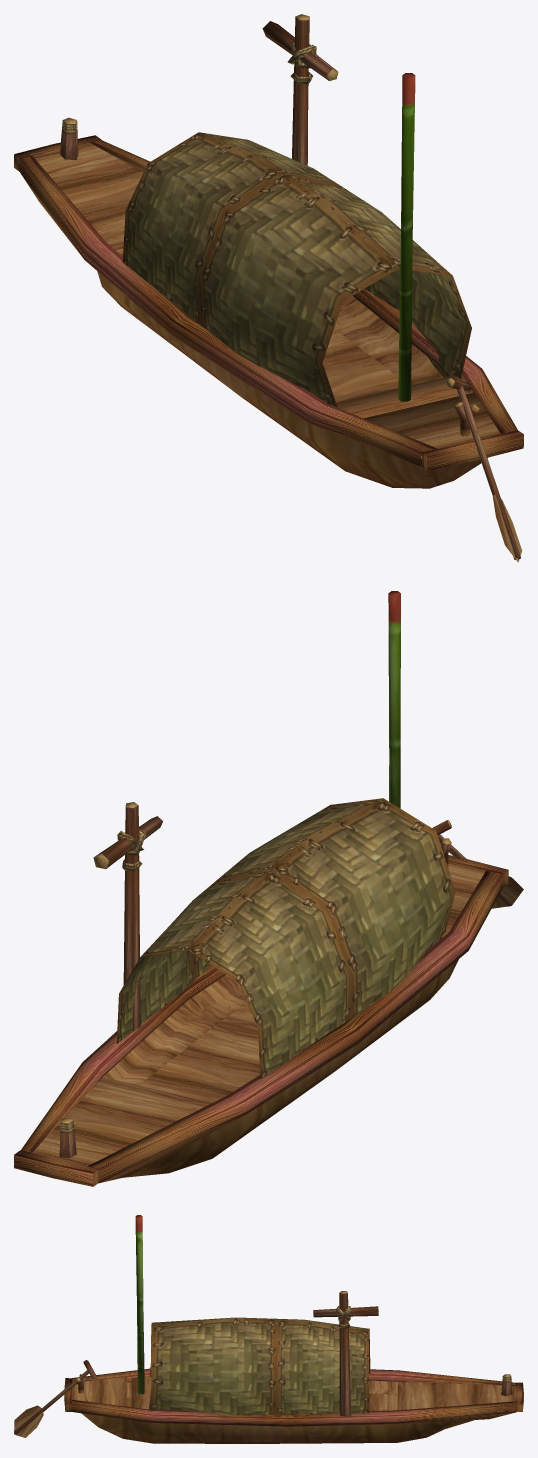
The model's file is environment_common_yuchuan_001_b.FBX.
The picture shows the model from 3 angles, top to bottom: view 1: azimuth 30°, elevation 25°; view 2: azimuth 150°, elevation 25°; view 3: azimuth 270°, elevation 25°; orthographic projection. The views are drawn at different scales.
Visible parts, largest first — view 1: environment_common_yuchuan_001_b03, environment_common_yuchuan_001_b05, environment_common_yuchuan_001_b01, environment_common_yuchuan_001_b04, environment_common_yuchuan_001_b02; view 2: environment_common_yuchuan_001_b03, environment_common_yuchuan_001_b01, environment_common_yuchuan_001_b05, environment_common_yuchuan_001_b04, environment_common_yuchuan_001_b02; view 3: environment_common_yuchuan_001_b03, environment_common_yuchuan_001_b04, environment_common_yuchuan_001_b05, environment_common_yuchuan_001_b01, environment_common_yuchuan_001_b02.
Part boxes in pixels (left/top/right/bottom): environment_common_yuchuan_001_b03: left=122, top=132, right=471, bottom=407; environment_common_yuchuan_001_b05: left=14, top=135, right=523, bottom=470; environment_common_yuchuan_001_b01: left=30, top=141, right=505, bottom=448; environment_common_yuchuan_001_b04: left=60, top=14, right=521, bottom=562; environment_common_yuchuan_001_b02: left=398, top=73, right=415, bottom=401; environment_common_yuchuan_001_b03: left=116, top=798, right=455, bottom=1078; environment_common_yuchuan_001_b01: left=30, top=861, right=485, bottom=1167; environment_common_yuchuan_001_b05: left=14, top=855, right=508, bottom=1186; environment_common_yuchuan_001_b04: left=59, top=802, right=523, bottom=1177; environment_common_yuchuan_001_b02: left=388, top=591, right=400, bottom=808; environment_common_yuchuan_001_b03: left=148, top=1317, right=370, bottom=1425; environment_common_yuchuan_001_b04: left=14, top=1291, right=512, bottom=1443; environment_common_yuchuan_001_b05: left=64, top=1368, right=523, bottom=1426; environment_common_yuchuan_001_b01: left=72, top=1375, right=518, bottom=1410; environment_common_yuchuan_001_b02: left=135, top=1215, right=144, bottom=1394.
Bounding box in the file's own units: 528 × 2187 × 1040.
